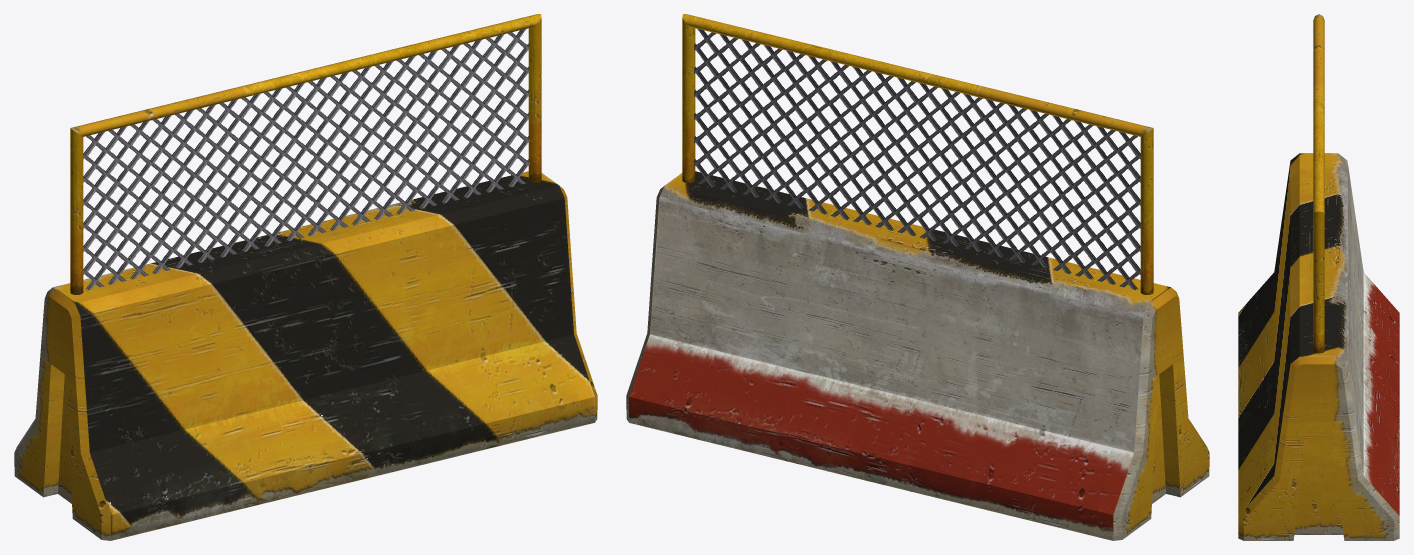
File: barrieryellow1.glb
The picture shows the model from 3 angles, left to right: view 1: azimuth 30°, elevation 25°; view 2: azimuth 150°, elevation 25°; view 3: azimuth 270°, elevation 25°; orthographic projection. The views are drawn at different scales.
Visible parts, largest first — view 1: node_id31, node_id35; view 2: node_id33, node_id31, node_id35; view 3: node_id31, node_id33.
Part boxes in pixels (x1,y1,x2,y2): node_id31: (14, 14, 597, 540); node_id35: (83, 28, 529, 290); node_id33: (629, 198, 1143, 540); node_id31: (626, 14, 1209, 540); node_id35: (694, 28, 1140, 290); node_id31: (1238, 14, 1399, 540); node_id33: (1347, 163, 1399, 515).
Bounding box in the file's own units: 0.5377 × 0.3899 × 0.1759.
3 materials, 3 textured.
